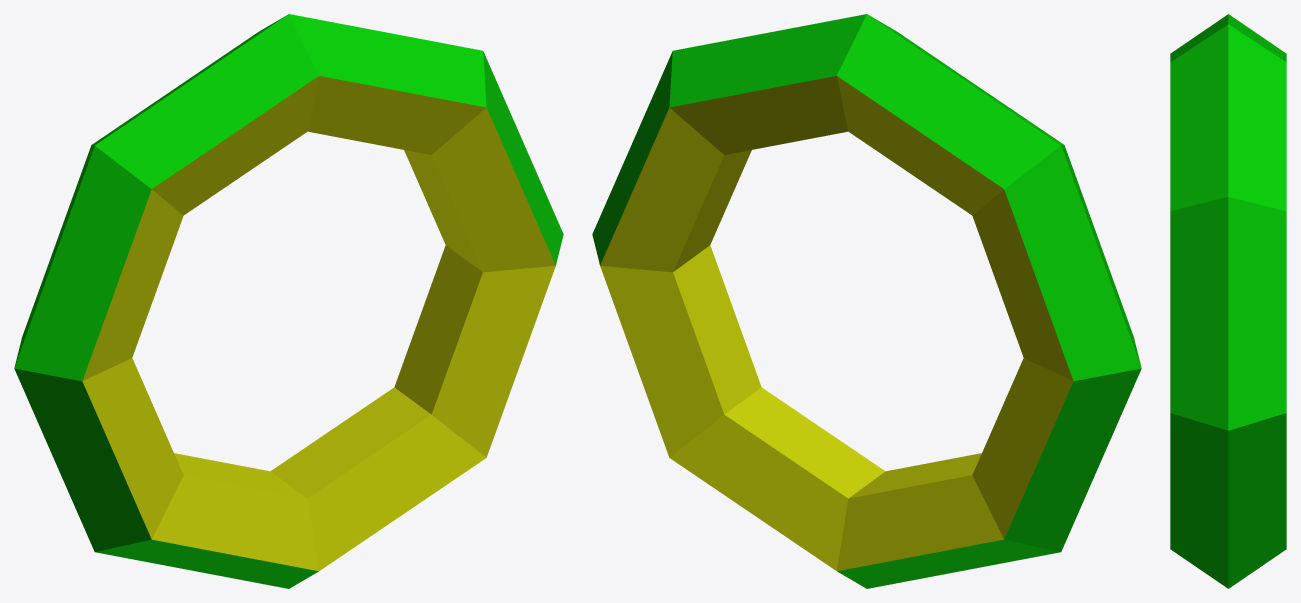
File: donut.obj
3 views of the same model, side by side, from view 1: azimuth 30°, elevation 25°; view 2: azimuth 150°, elevation 25°; view 3: azimuth 270°, elevation 25° (orthographic). The views are drawn at different scales.
Parts seen in each view (by area): view 1: Torus; view 2: Torus; view 3: Torus.
Part boxes in pixels (x1,y1,x2,y2): Torus: (14,14,563,588); Torus: (592,14,1141,588); Torus: (1170,14,1286,588).
Bounding box in the file's own units: 2.5 × 2.5 × 0.4755.
